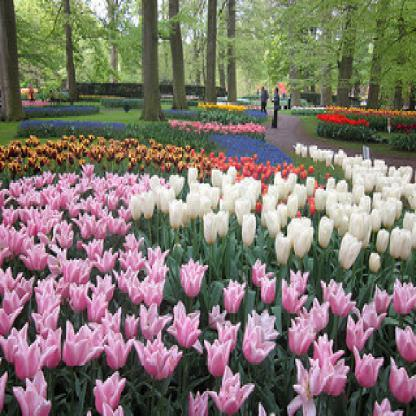TULIP: (8, 157, 411, 410)
